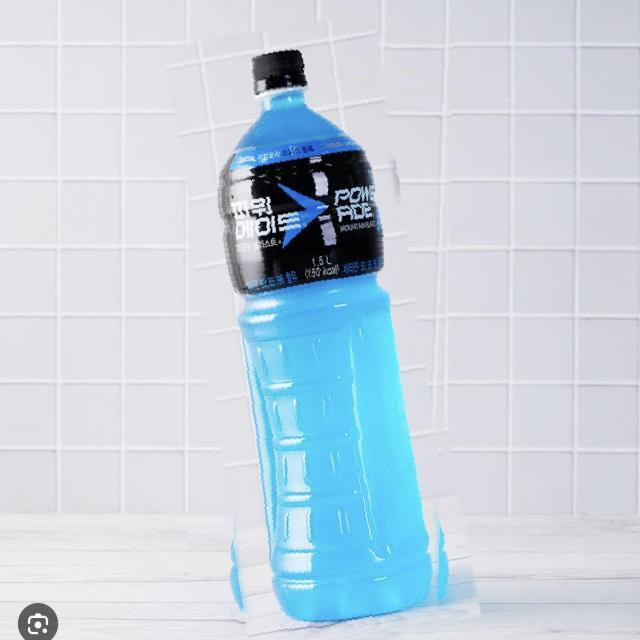recyclable: (188, 16, 455, 640)
